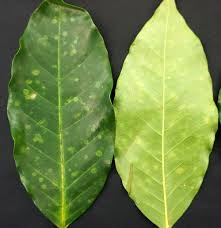Diseased_Leaves: (19, 80, 105, 158), (119, 99, 211, 141), (34, 12, 95, 65), (152, 17, 186, 92), (136, 161, 188, 197), (32, 171, 89, 203)
